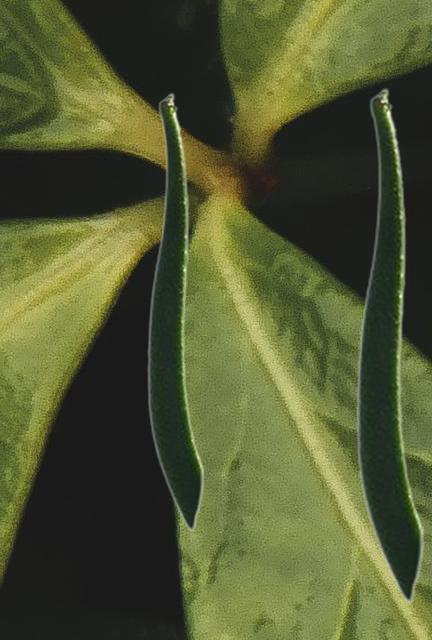french_bean: (355, 87, 424, 603), (146, 92, 204, 531)
